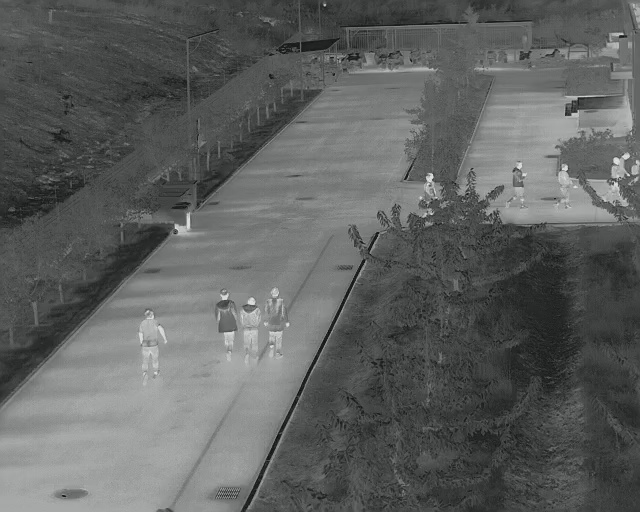person: (135, 307, 168, 384), (264, 286, 289, 361), (213, 288, 237, 364), (239, 295, 262, 368), (505, 160, 529, 210), (554, 162, 577, 213), (604, 155, 621, 201), (423, 171, 436, 203)
